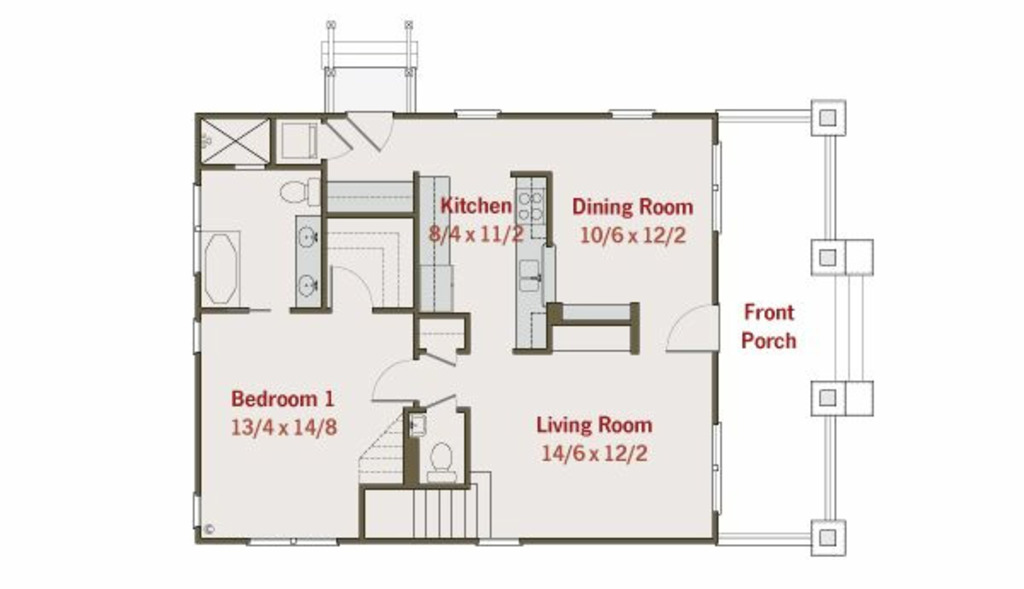door: (665, 306, 720, 349), (329, 265, 376, 310), (369, 356, 418, 399), (351, 111, 397, 150), (320, 115, 355, 161)
kitchen_bar: (512, 174, 547, 259)
large_sink: (274, 173, 319, 213), (426, 437, 464, 483)
small_sink: (295, 272, 323, 300), (296, 220, 320, 252)
small_sofa: (278, 117, 316, 158)
stairs: (363, 485, 484, 535)
tub: (200, 229, 245, 305)
window: (707, 137, 720, 230), (188, 178, 199, 274), (710, 418, 719, 504), (252, 538, 334, 545)
